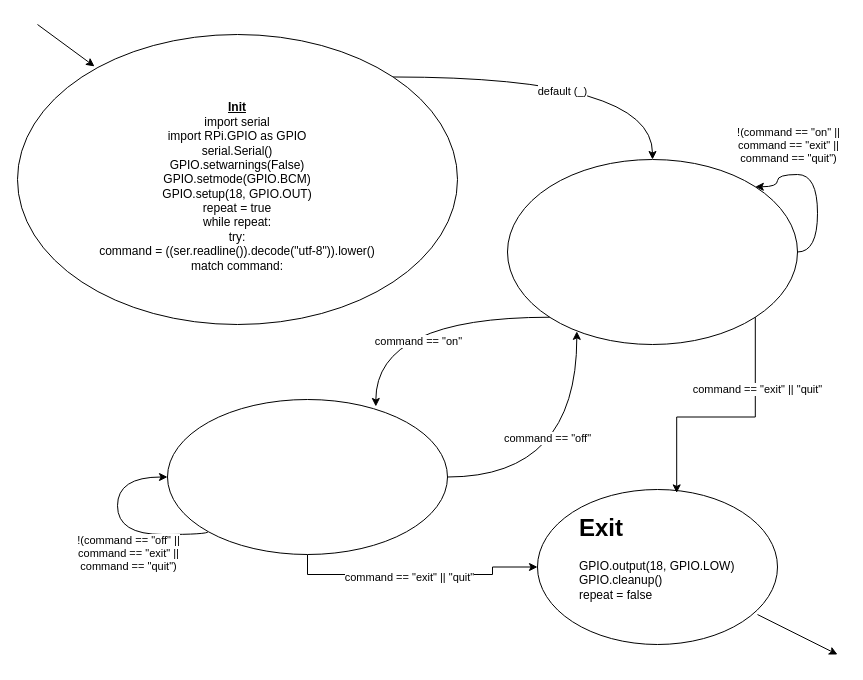
Image size: 863x680. Some labels were removed from this diagram. The centre of each missing label's shape, as x and y in pixels:
"TurnOn GPIO.output(18, GPIO.HIGH)" belongs at (x=307, y=476).
"WaitOff GPIO.output(18, GPIO.LOW)" belongs at (x=652, y=251).
